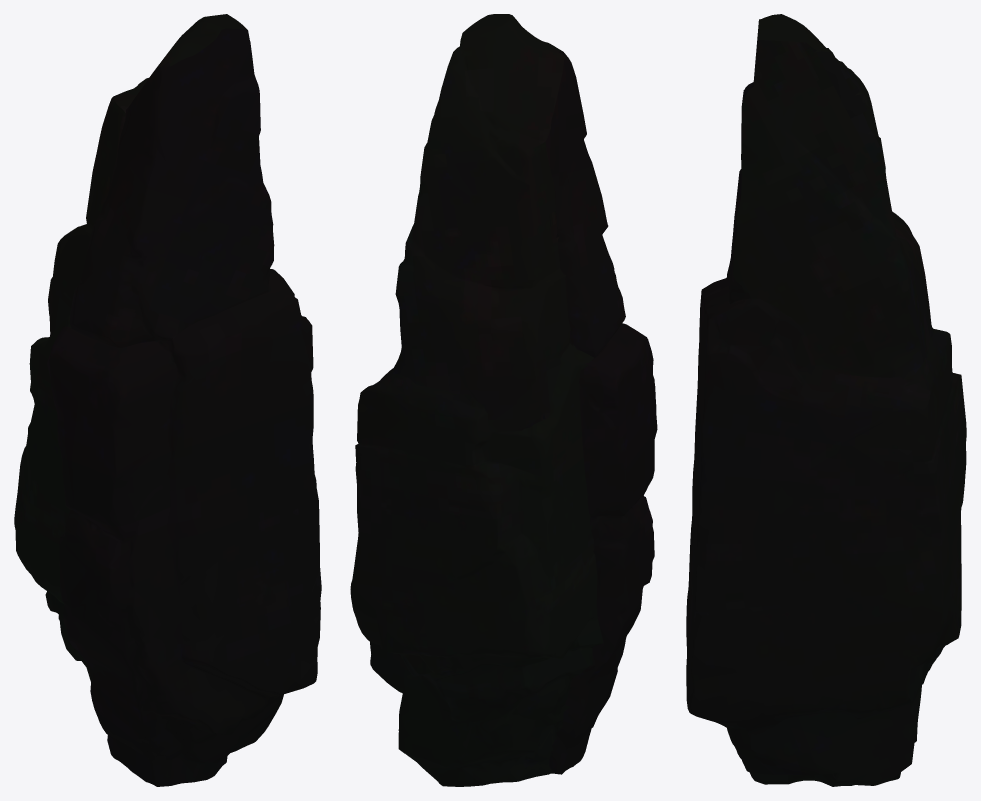
3 renders of one model, left to right at view 1: azimuth 30°, elevation 25°; view 2: azimuth 150°, elevation 25°; view 3: azimuth 270°, elevation 25°, orthographic. The views are drawn at different scales.
Visible parts, largest first — view 1: SM_HL_LimestoneMid_04_LOD0; view 2: SM_HL_LimestoneMid_04_LOD0; view 3: SM_HL_LimestoneMid_04_LOD0.
Boxes of the visible parts, x1,y1,x2,y2 form: SM_HL_LimestoneMid_04_LOD0: (14, 14, 321, 786); SM_HL_LimestoneMid_04_LOD0: (350, 14, 657, 786); SM_HL_LimestoneMid_04_LOD0: (686, 14, 966, 786).
Size of the model in its own units: 6.26 by 20.65 by 6.83.
